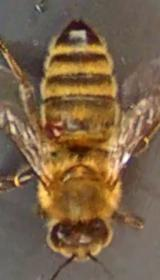varroa_mite: (37, 113, 73, 157)
